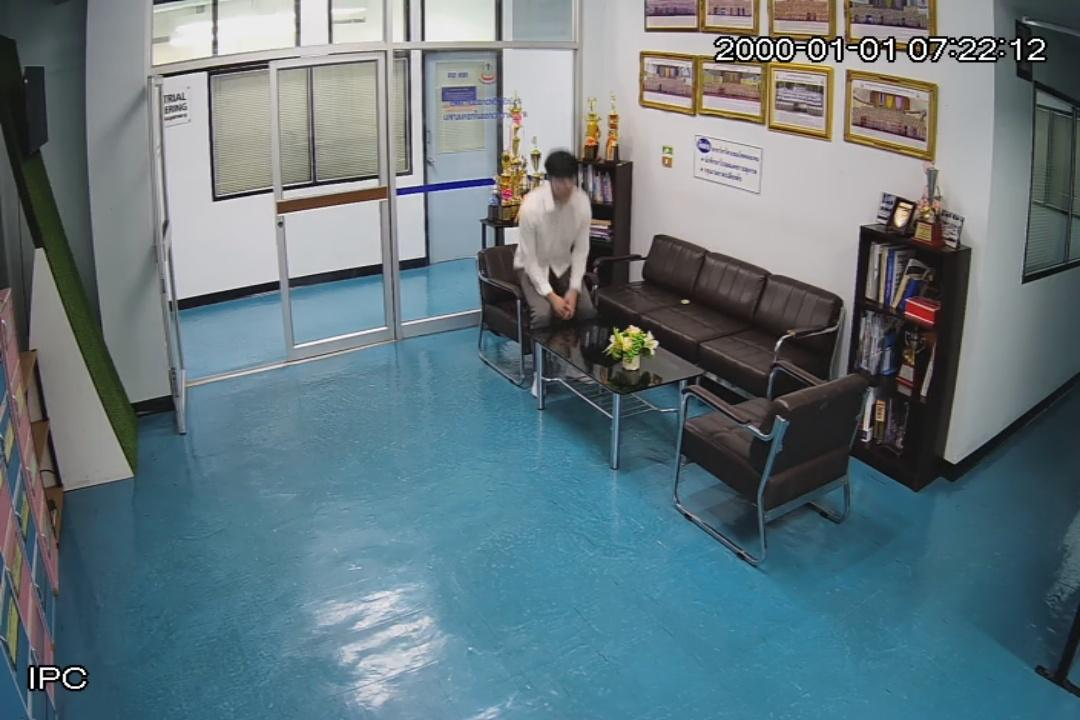normal: (510, 148, 599, 400)
